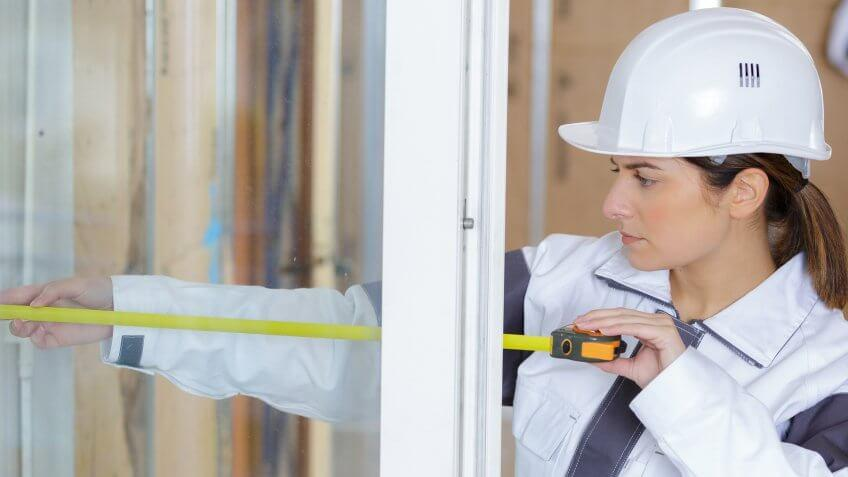helmet: (565, 9, 837, 166)
